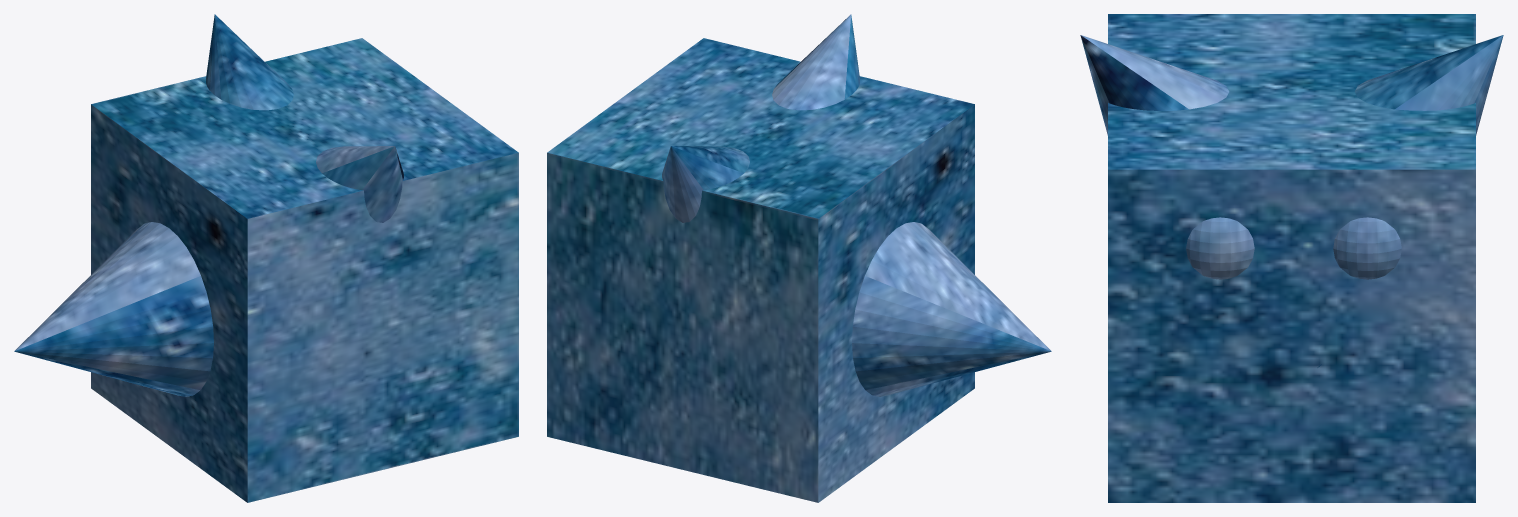
Rendered from EnemyVarient.fbx.
3 renders of one model, left to right at view 1: azimuth 30°, elevation 25°; view 2: azimuth 150°, elevation 25°; view 3: azimuth 270°, elevation 25°, orthographic. The views are drawn at different scales.
Visible parts, largest first — view 1: Sphere.001; view 2: Sphere.001; view 3: Sphere.001.
Boxes of the visible parts, x1,y1,x2,y2 form: Sphere.001: [14, 14, 518, 502]; Sphere.001: [547, 14, 1051, 502]; Sphere.001: [1080, 14, 1503, 502].
Size of the model in its own units: 321 by 237 by 230.
Materials: 1 (1 with a texture image).
